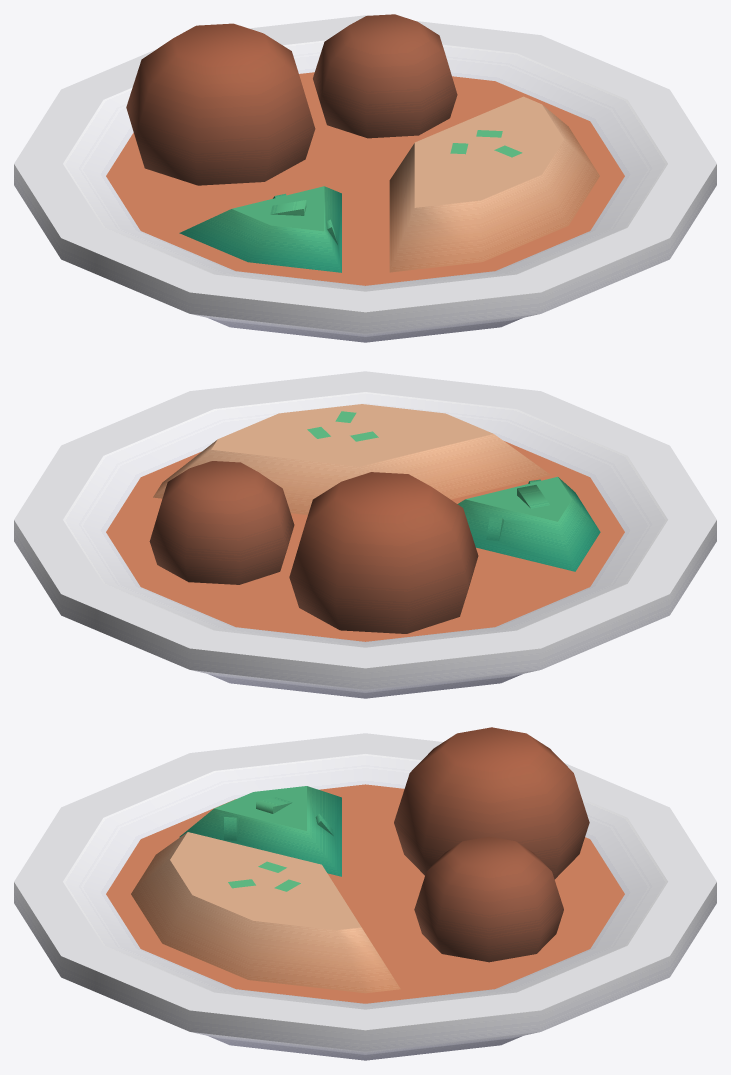
The model's file is k-food-plate-dinner.glb.
3 views of the same model, one above another, from view 1: azimuth 30°, elevation 25°; view 2: azimuth 150°, elevation 25°; view 3: azimuth 270°, elevation 25° (orthographic).
Parts seen in each view (by area): view 1: plate-dinner; view 2: plate-dinner; view 3: plate-dinner.
Boxes of the visible parts, bbox=[...] form: plate-dinner: bbox=[14, 14, 716, 342]; plate-dinner: bbox=[14, 371, 716, 698]; plate-dinner: bbox=[14, 727, 716, 1060].
Bounding box in the file's own units: 0.27 × 0.067 × 0.27.
Materials: 1 (1 with a texture image).
